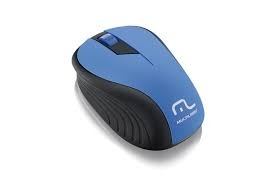mouse: (70, 17, 216, 163)
